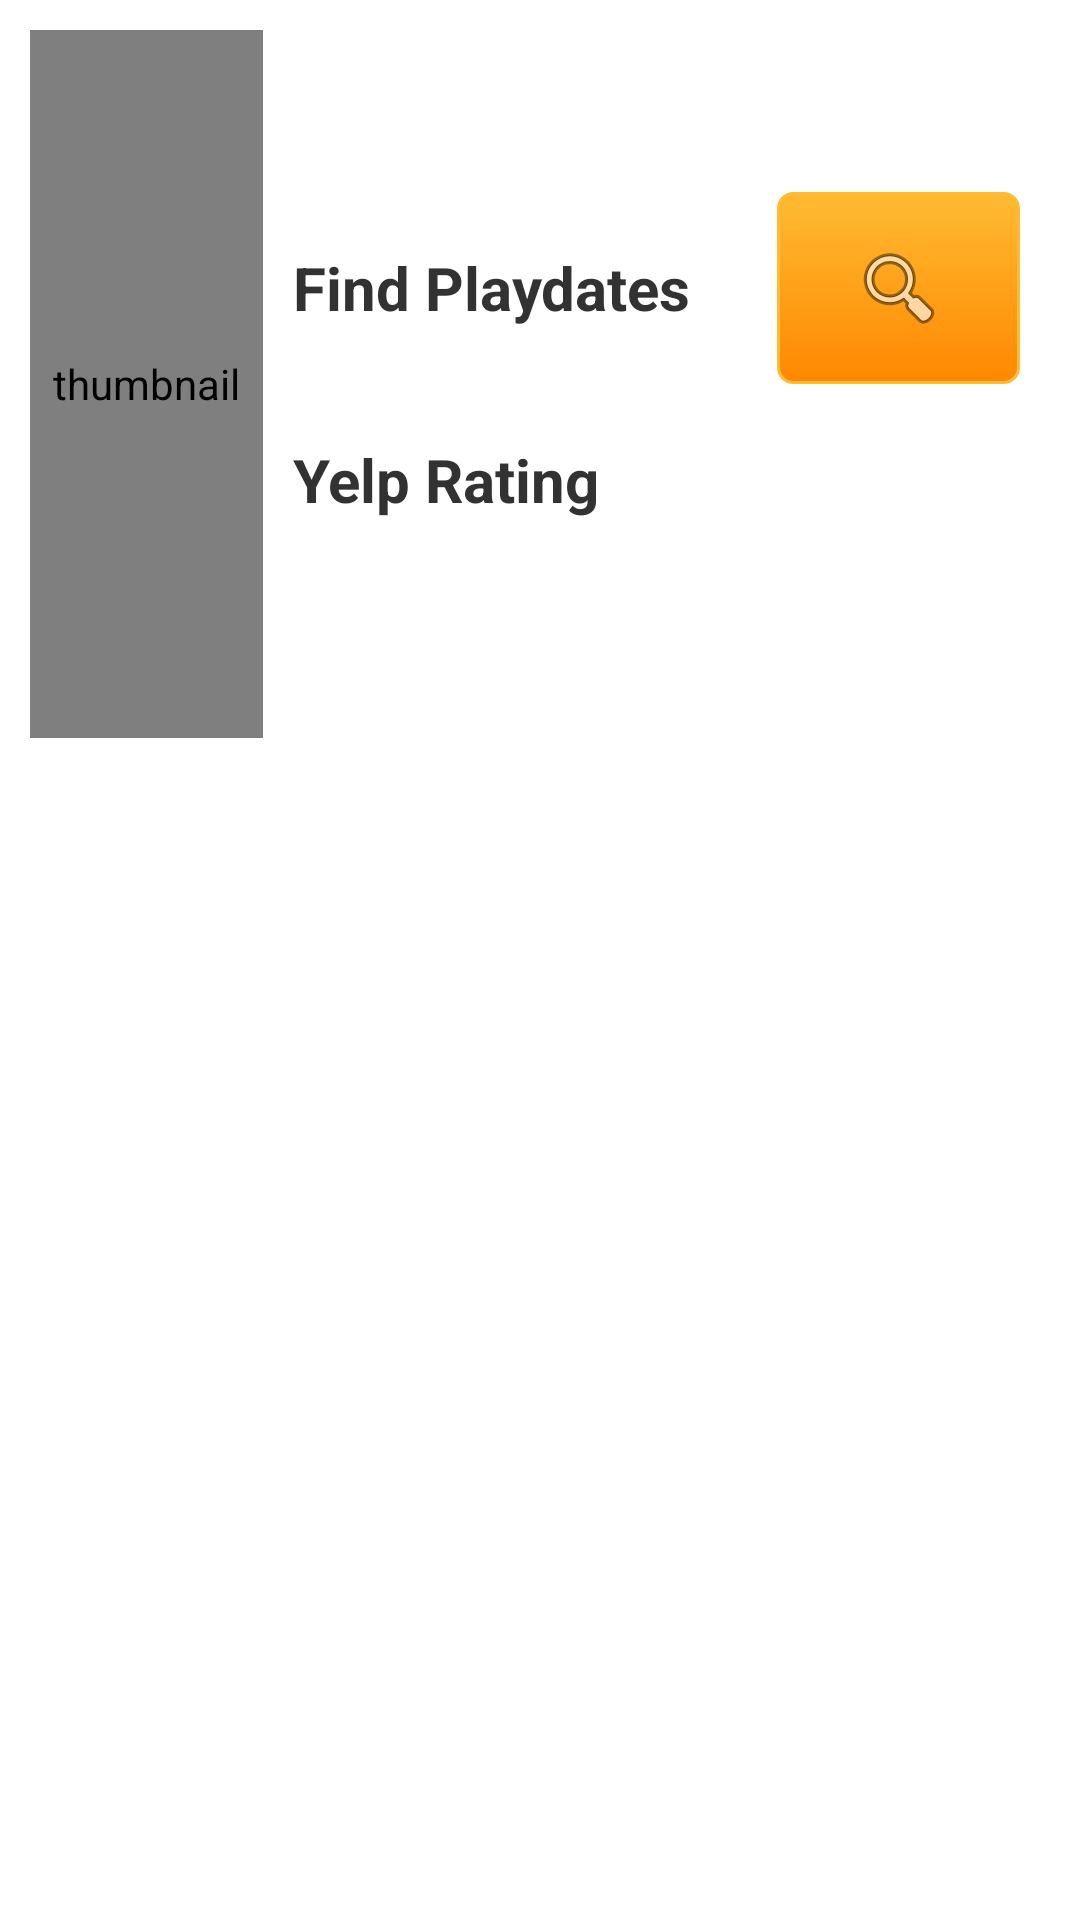

Where to tap for icons on this 1080px x 1920px app screen, as (x,y):
Search: (898,288)
